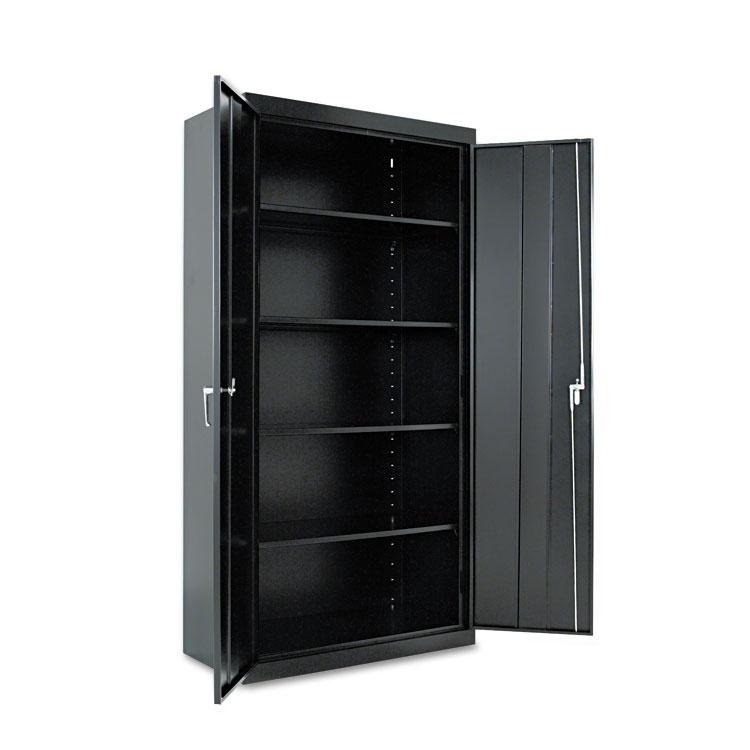cabinet_door: (528, 139, 581, 630), (214, 89, 257, 688)
handle: (198, 379, 219, 434), (568, 375, 587, 417), (227, 375, 243, 409)
